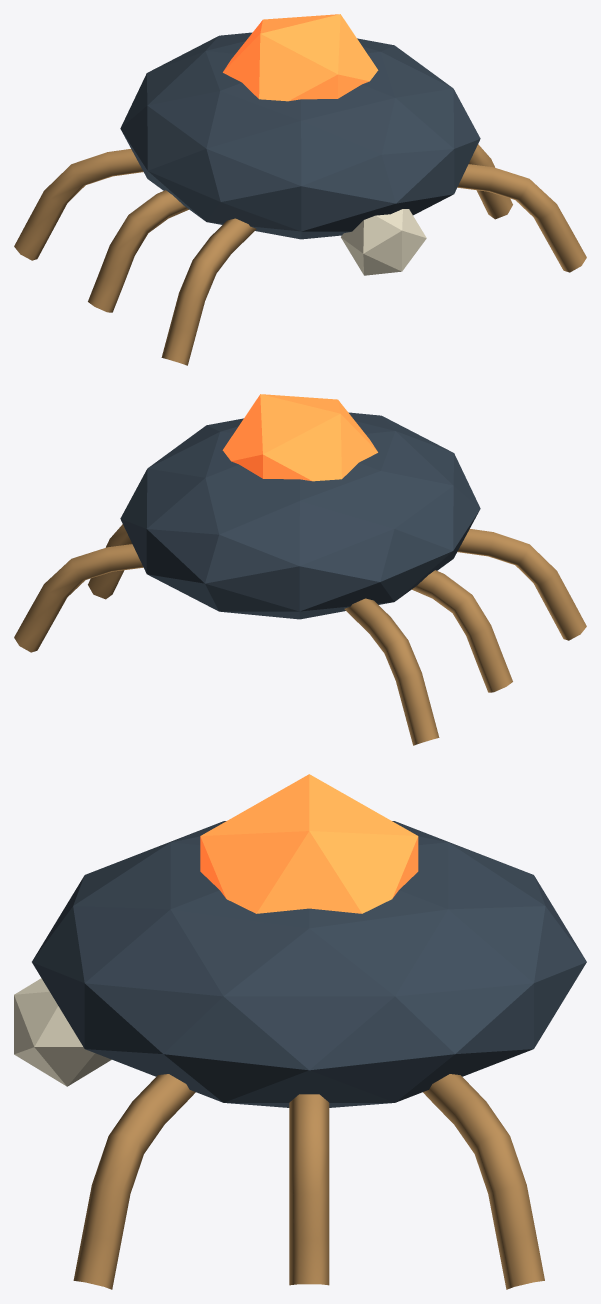
File: sunfall-rift-moba-crystal-scarab-83e43707__21992.glb
3 views of the same model, one above another, from view 1: azimuth 30°, elevation 25°; view 2: azimuth 150°, elevation 25°; view 3: azimuth 270°, elevation 25° (orthographic). The views are drawn at different scales.
Visible parts, largest first — view 1: crystal-scarab; view 2: crystal-scarab; view 3: crystal-scarab.
Part boxes in pixels (x1,y1,x2,y2): crystal-scarab: (14, 14, 586, 365); crystal-scarab: (14, 394, 586, 745); crystal-scarab: (14, 774, 586, 1289).
Size of the model in its own units: 2.47 by 1.36 by 2.01.
